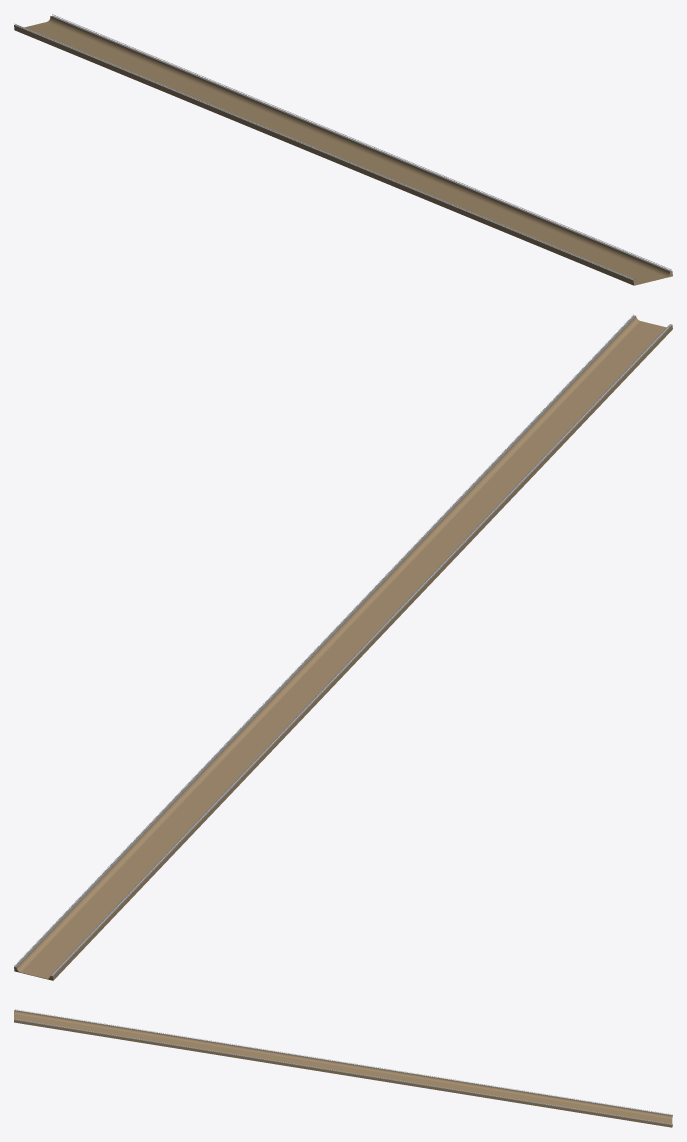
File: Rampa v4.fbx
3 views of the same model, one above another, from view 1: azimuth 30°, elevation 25°; view 2: azimuth 150°, elevation 25°; view 3: azimuth 270°, elevation 25° (orthographic). The views are drawn at different scales.
Parts seen in each view (by area): view 1: Rampa larga.001; view 2: Rampa larga.001; view 3: Rampa larga.001.
Part boxes in pixels (bbox=[...]): Rampa larga.001: bbox=[14, 14, 672, 285]; Rampa larga.001: bbox=[14, 314, 672, 980]; Rampa larga.001: bbox=[14, 1009, 672, 1127].
Size of the model in its own units: 3656 by 18350 by 100980.
